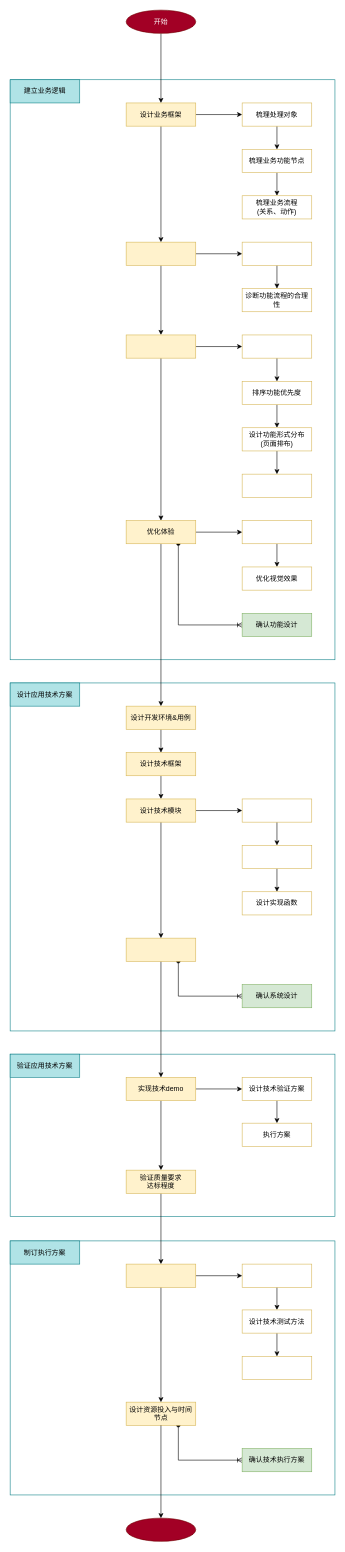
The diagram is 345 pixels wide and 1552 high, and some of its shapes have lost their labels. Here are the shapes that lost their labels. From the top down, the centre of each, then its label:
[161,253]: 设计功能概念
[277,253]: 设计功能概念点
[161,346]: 设计业务形式
[277,346]: 设计实现载体
[277,485]: 设计功能节点动作关系
[277,532]: 优化页面排布及操作
[277,810]: 设计模块化组件
[277,857]: 设计内、外接口
[161,949]: 设计测试环境&用例
[161,1275]: 设计技术执行方案
[277,1275]: 设计技术开发路径
[277,1368]: 设计执行步骤
[161,1529]: 结束
